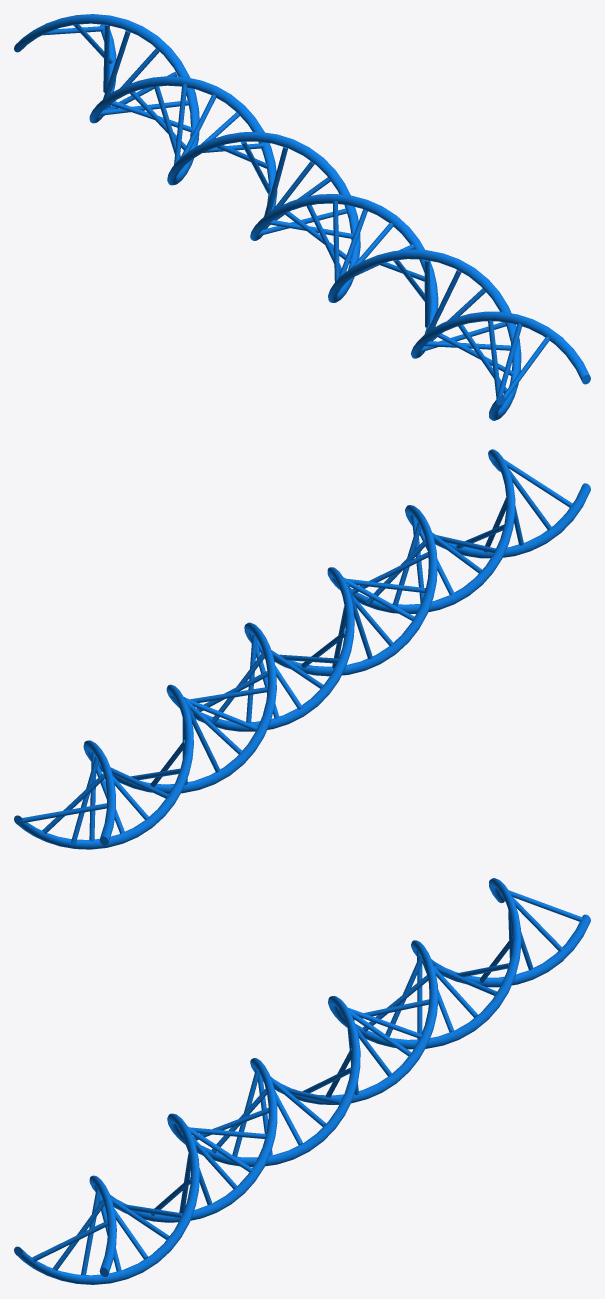
File: DNA.fbx
The picture shows the model from 3 angles, top to bottom: view 1: azimuth 30°, elevation 25°; view 2: azimuth 150°, elevation 25°; view 3: azimuth 330°, elevation 25°; orthographic projection.
Parts seen in each view (by area): view 1: Cylinder002; view 2: Cylinder002; view 3: Cylinder002.
Boxes of the visible parts, x1=… form: Cylinder002: x1=14, y1=14, x2=590, y2=420; Cylinder002: x1=14, y1=449, x2=590, y2=849; Cylinder002: x1=14, y1=878, x2=590, y2=1284.
Size of the model in its own units: 0.43 by 0.43 by 3.67.
